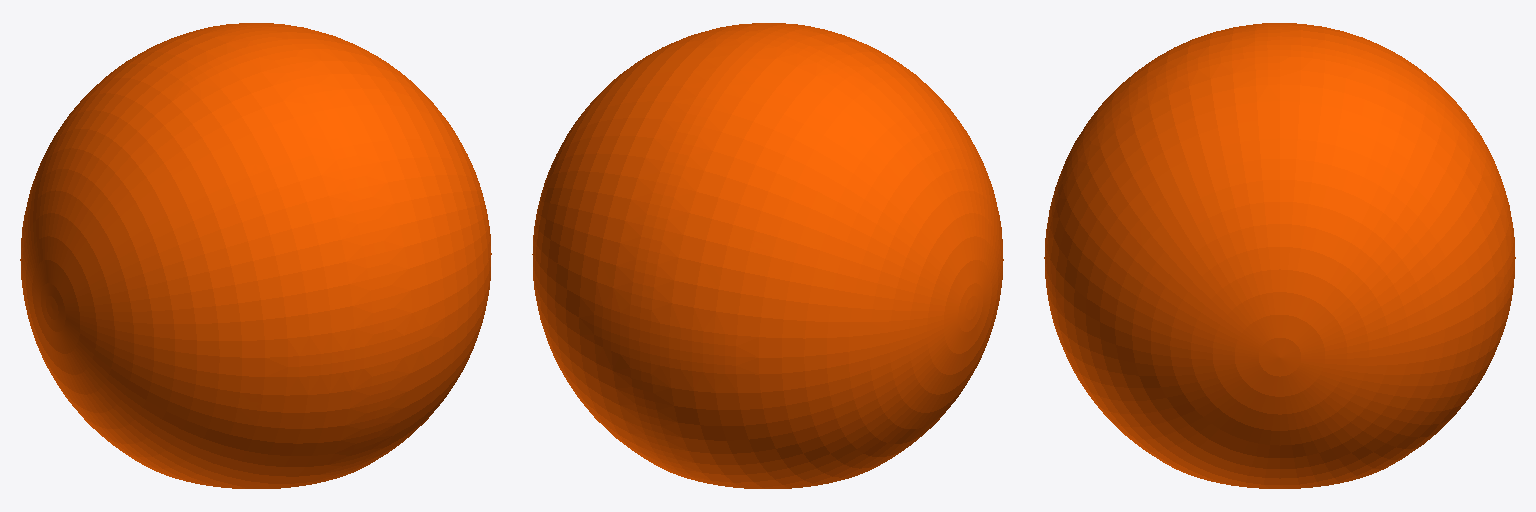
URDF robot description (spheremedium):
<?xml version="1.0" ?>
<robot name="spheremedium">
   <material name="obj_color">
      <color rgba="1.0 0.423529411765 0.0392156862745 1.0"/>
   </material>
   <link name="top">
      <inertial>
         <origin rpy="0.0003195396346960743 0.0003196493052210492 0.0003352639602593456" xyz="1.094501002581383e-07 5.282790083349784e-07 -0.002920028626229453"/>
         <mass value="0.5134143074114902"/>
         <inertia ixx="0.0003195396374967154" ixy="5.501477128644669e-10" ixz="-7.985813288866044e-10" iyy="0.0003196493024791114" iyz="5.323300780346599e-10" izz="0.0003352639602006423"/>
      </inertial>
      <visual>
         <origin rpy="0 0 0" xyz="0 0 0"/>
         <geometry>
            <mesh filename="top_watertight_tiny.stl" scale="1 1 1"/>
         </geometry>
         <material name="obj_color"/>
      </visual>
      <collision>
         <origin rpy="0 0 0" xyz="0 0 0"/>
         <geometry>
            <mesh filename="top_watertight_tiny.obj" scale="1 1 1"/>
         </geometry>
      </collision>
   </link>
   <link name="bottom">
      <inertial>
         <origin rpy="1.633333333194242e-08 1.633333333194243e-08 1.633333333357667e-08" xyz="0.3464080000000008 0.3464080000000008 0.3464080000000008"/>
         <mass value="0.0009800000000000017"/>
         <inertia ixx="1.633333333248717e-08" ixy="5.447480642029219e-19" ixz="5.447480642029219e-19" iyy="1.633333333248717e-08" iyz="5.447480642029219e-19" izz="1.633333333248717e-08"/>
      </inertial>
      <visual>
         <origin rpy="0 0 0" xyz="0 0 0"/>
         <geometry>
            <mesh filename="bottom_watertight_tiny.stl" scale="1 1 1"/>
         </geometry>
         <material name="obj_color"/>
      </visual>
   </link>
   <joint name="rotation" type="revolute">
      <origin xyz="0 0 0"/>
      <axis xyz="0 0 -1"/>
      <parent link="bottom"/>
      <child link="top"/>
      <dynamics damping="1.0" friction="1.0"/>
      <limit effort="0.1" velocity="0.1" lower="0" upper="0.001"/>
   </joint>
</robot>

--- What the picture shows (computed from the rendered views, not written in the file) ---
The picture shows the robot from 3 angles, left to right: view 1: azimuth 30°, elevation 25°; view 2: azimuth 150°, elevation 25°; view 3: azimuth 270°, elevation 25°; orthographic projection.
Model spheremedium with 2 links and 1 joints (1 revolute), rooted at bottom, posed every joint at zero.
Visible links, largest first — view 1: top; view 2: top; view 3: top.
Link boxes in pixels (left/top/right/bottom): top: left=20, top=23, right=491, bottom=488; top: left=532, top=23, right=1003, bottom=488; top: left=1044, top=23, right=1515, bottom=488.
Size in the robot's own frame: 0.0802 by 0.0802 by 0.0725 metres.
Meshes: 2 distinct files referenced, 1 mesh visuals loaded (1 binary STL); not drawn: 1 (reference not matched to a file when rendering).
